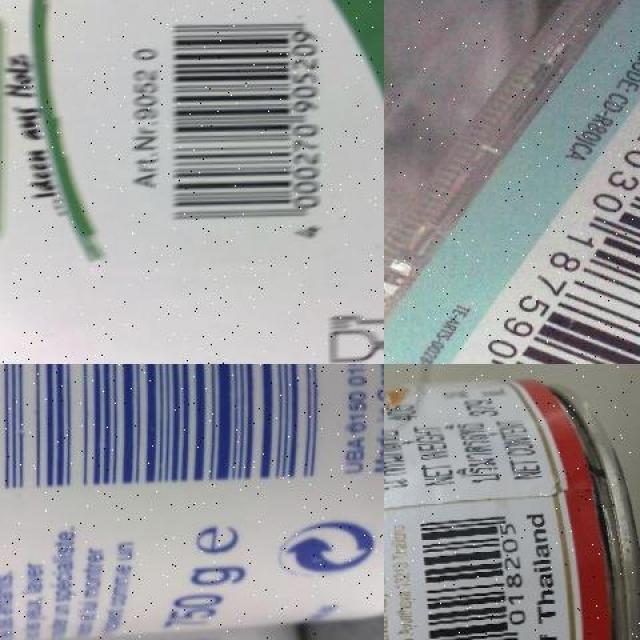Barcode: (434, 22, 640, 364), (0, 364, 340, 500), (157, 5, 332, 251), (412, 505, 531, 640)
